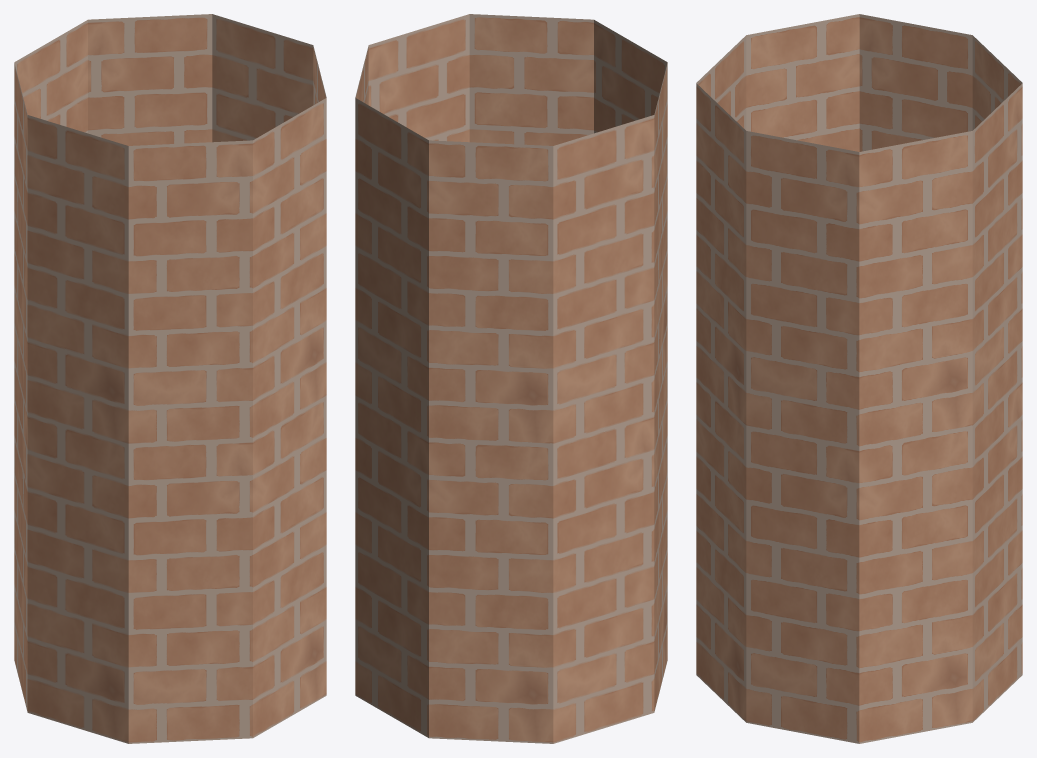
File: Mid_Temp_Pillar.fbx
The picture shows the model from 3 angles, left to right: view 1: azimuth 30°, elevation 25°; view 2: azimuth 150°, elevation 25°; view 3: azimuth 270°, elevation 25°; orthographic projection.
Parts seen in each view (by area): view 1: Mid_Temp_Pillar; view 2: Mid_Temp_Pillar; view 3: Mid_Temp_Pillar.
Part boxes in pixels (x1,y1,x2,y2): Mid_Temp_Pillar: (14,14,326,743); Mid_Temp_Pillar: (355,14,667,743); Mid_Temp_Pillar: (696,14,1022,743).
Bounding box in the file's own units: 50 × 100 × 50.
Materials: 1 (1 with a texture image).
